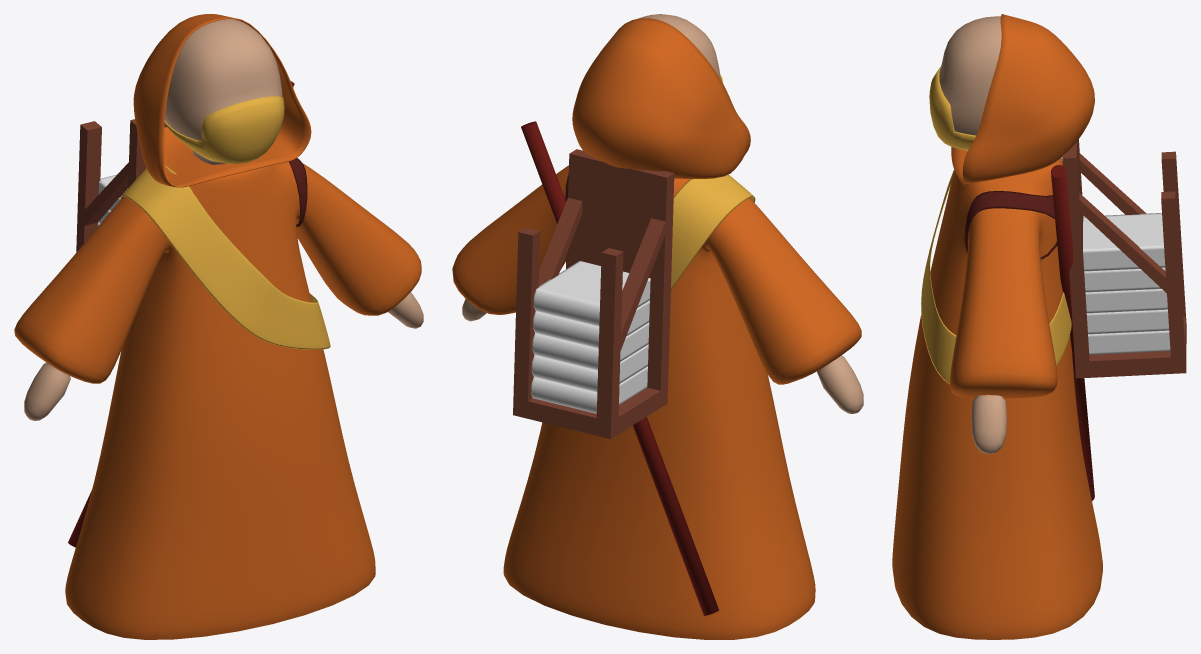
The model's file is Flame Servant NPC_1.fbx.
3 views of the same model, side by side, from view 1: azimuth 30°, elevation 25°; view 2: azimuth 150°, elevation 25°; view 3: azimuth 270°, elevation 25° (orthographic). The views are drawn at different scales.
Visible parts, largest first — view 1: Cloak, Sash, Hood, Head, Mask, Book Carrier, hand._R, hand_L, book carrier straps; view 2: Cloak, Book Carrier, Hood, Cube, Staff, Sash, hand._R, Head; view 3: Cloak, Hood, Book Carrier, Cube, Head, Sash, Staff, hand_L, book carrier straps, Mask.
Part boxes in pixels (x1,y1,x2,y2): Cloak: [14, 157, 421, 639]; Sash: [120, 165, 330, 349]; Hood: [133, 14, 311, 187]; Head: [165, 19, 282, 164]; Mask: [164, 96, 284, 164]; Book Carrier: [76, 119, 167, 252]; hand._R: [24, 362, 70, 420]; hand_L: [388, 292, 423, 328]; book carrier straps: [289, 158, 307, 227]; Cloak: [452, 165, 861, 639]; Book Carrier: [513, 149, 674, 438]; Hood: [572, 18, 750, 179]; Cube: [531, 261, 650, 413]; Staff: [521, 121, 718, 615]; Sash: [671, 174, 755, 289]; hand._R: [817, 355, 863, 413]; Head: [638, 14, 720, 79]; Cloak: [892, 158, 1102, 639]; Hood: [951, 14, 1094, 184]; Book Carrier: [1062, 139, 1186, 378]; Cube: [1083, 213, 1170, 354]; Head: [939, 16, 1001, 135]; Sash: [921, 170, 1071, 384]; Staff: [1051, 165, 1094, 500]; hand_L: [971, 395, 1006, 454]; book carrier straps: [964, 191, 1058, 259]; Mask: [929, 67, 975, 151].
Bounding box in the file's own units: 74.1 × 101 × 48.73.
